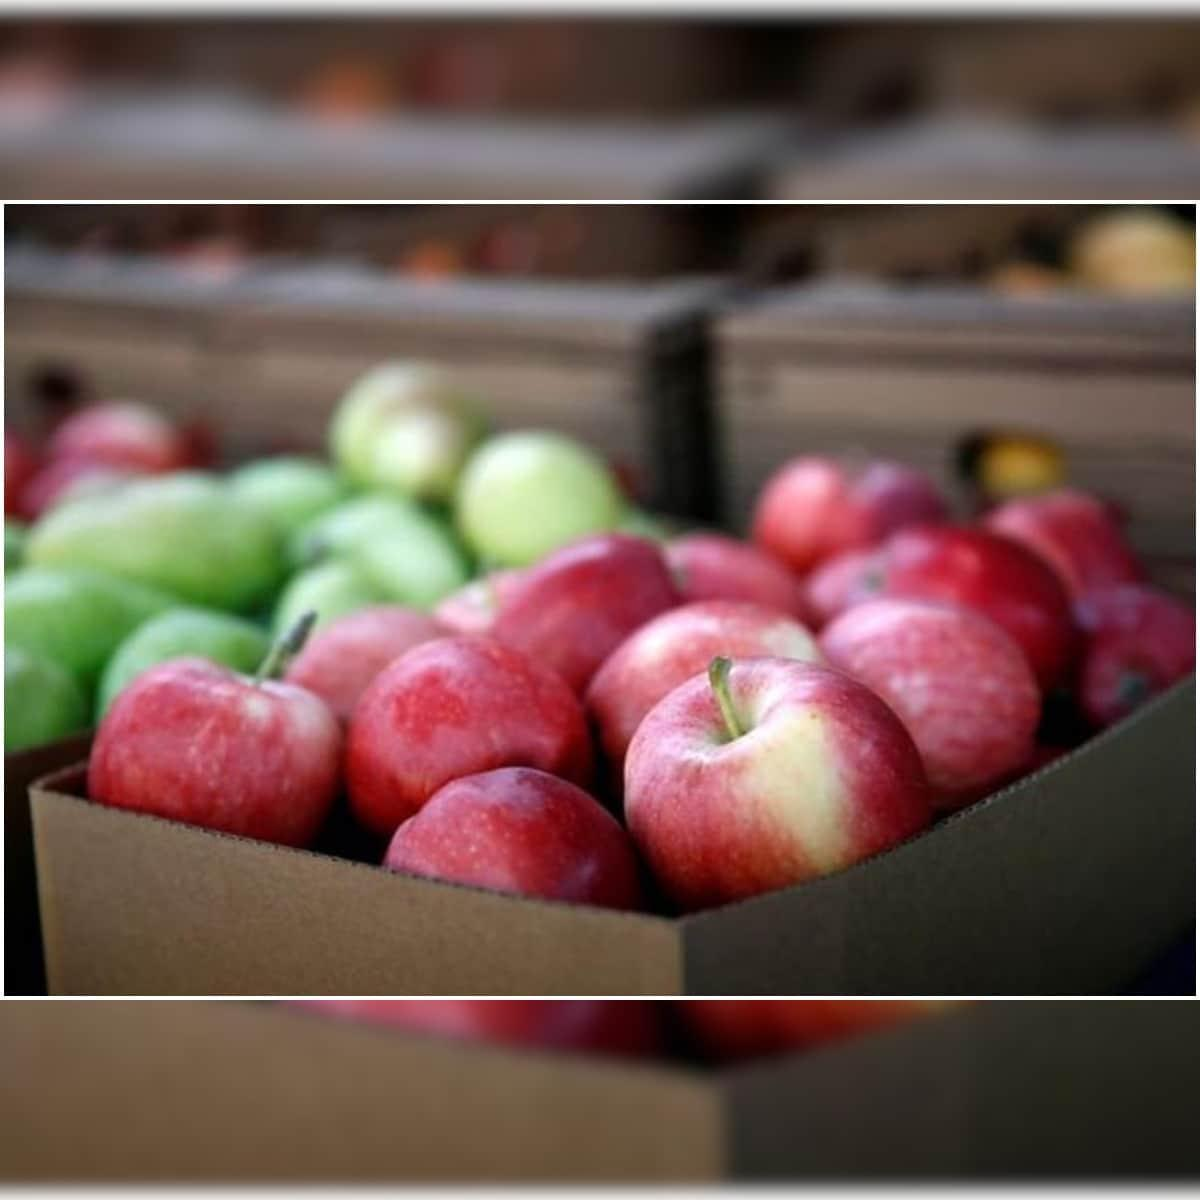apple: (619, 656, 927, 897), (87, 643, 342, 856), (347, 635, 584, 816), (384, 764, 633, 912)
